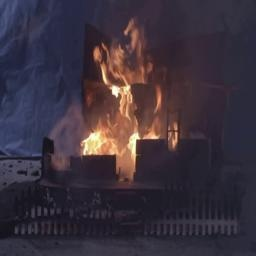fire: (72, 23, 179, 159)
